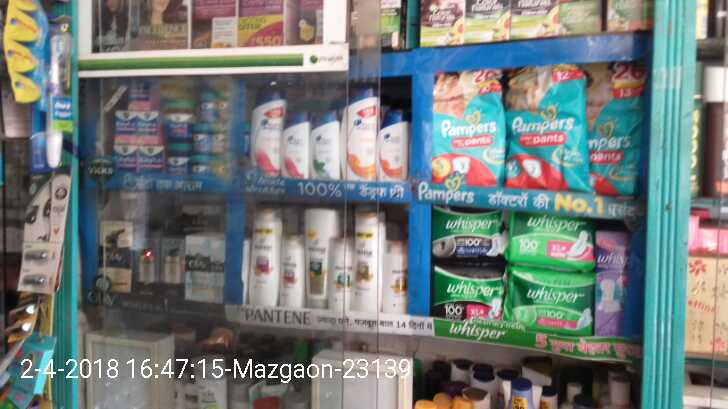vicks: (165, 86, 248, 178), (108, 79, 163, 169)
